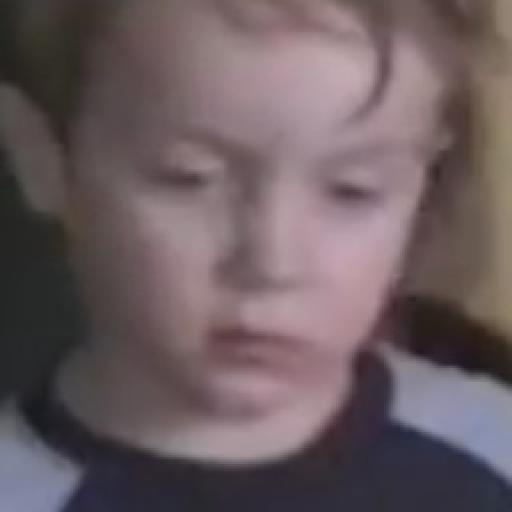Autism: (44, 6, 464, 454)
